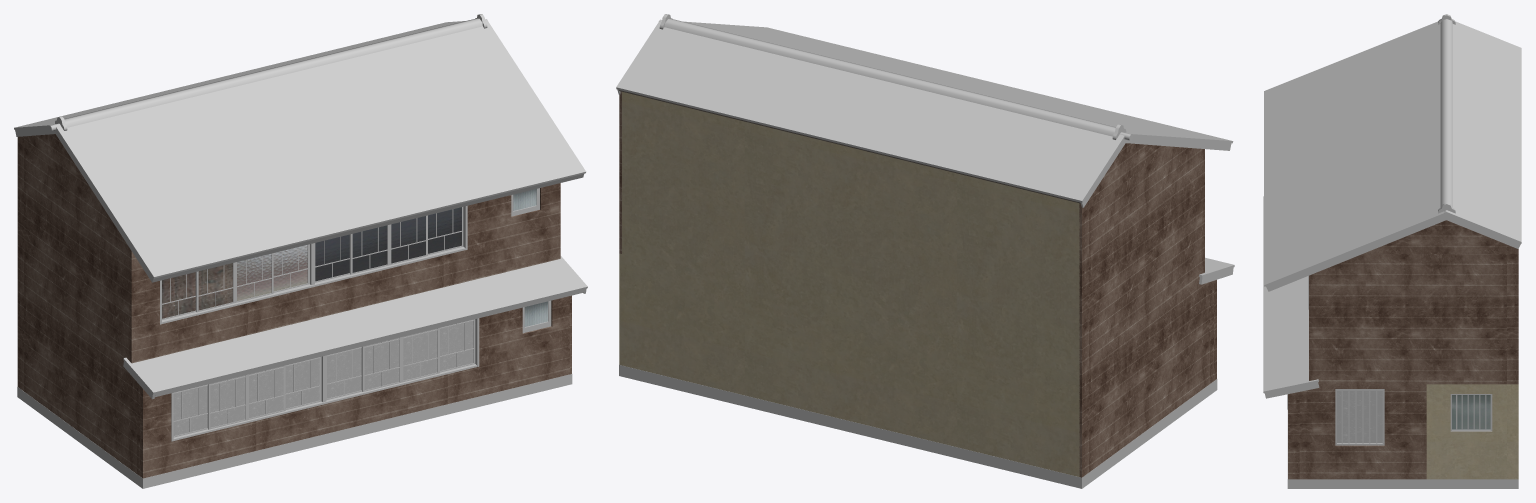
The model's file is JpHouse_27ak.fbx.
3 views of the same model, side by side, from view 1: azimuth 30°, elevation 25°; view 2: azimuth 150°, elevation 25°; view 3: azimuth 270°, elevation 25° (orthographic). The views are drawn at different scales.
Visible parts, largest first — view 1: JpHouse_27ak; view 2: JpHouse_27ak; view 3: JpHouse_27ak.
Boxes of the visible parts, <box> form: JpHouse_27ak: <box>14,14,587,488</box>; JpHouse_27ak: <box>616,14,1234,488</box>; JpHouse_27ak: <box>1263,14,1521,488</box>.
Bounding box in the file's own units: 8.88 × 5.96 × 4.93.
